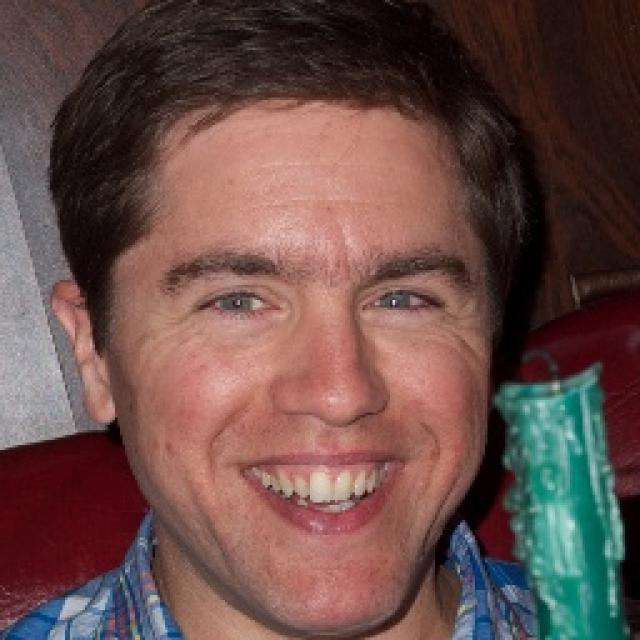earlobe: (50, 280, 121, 425)
